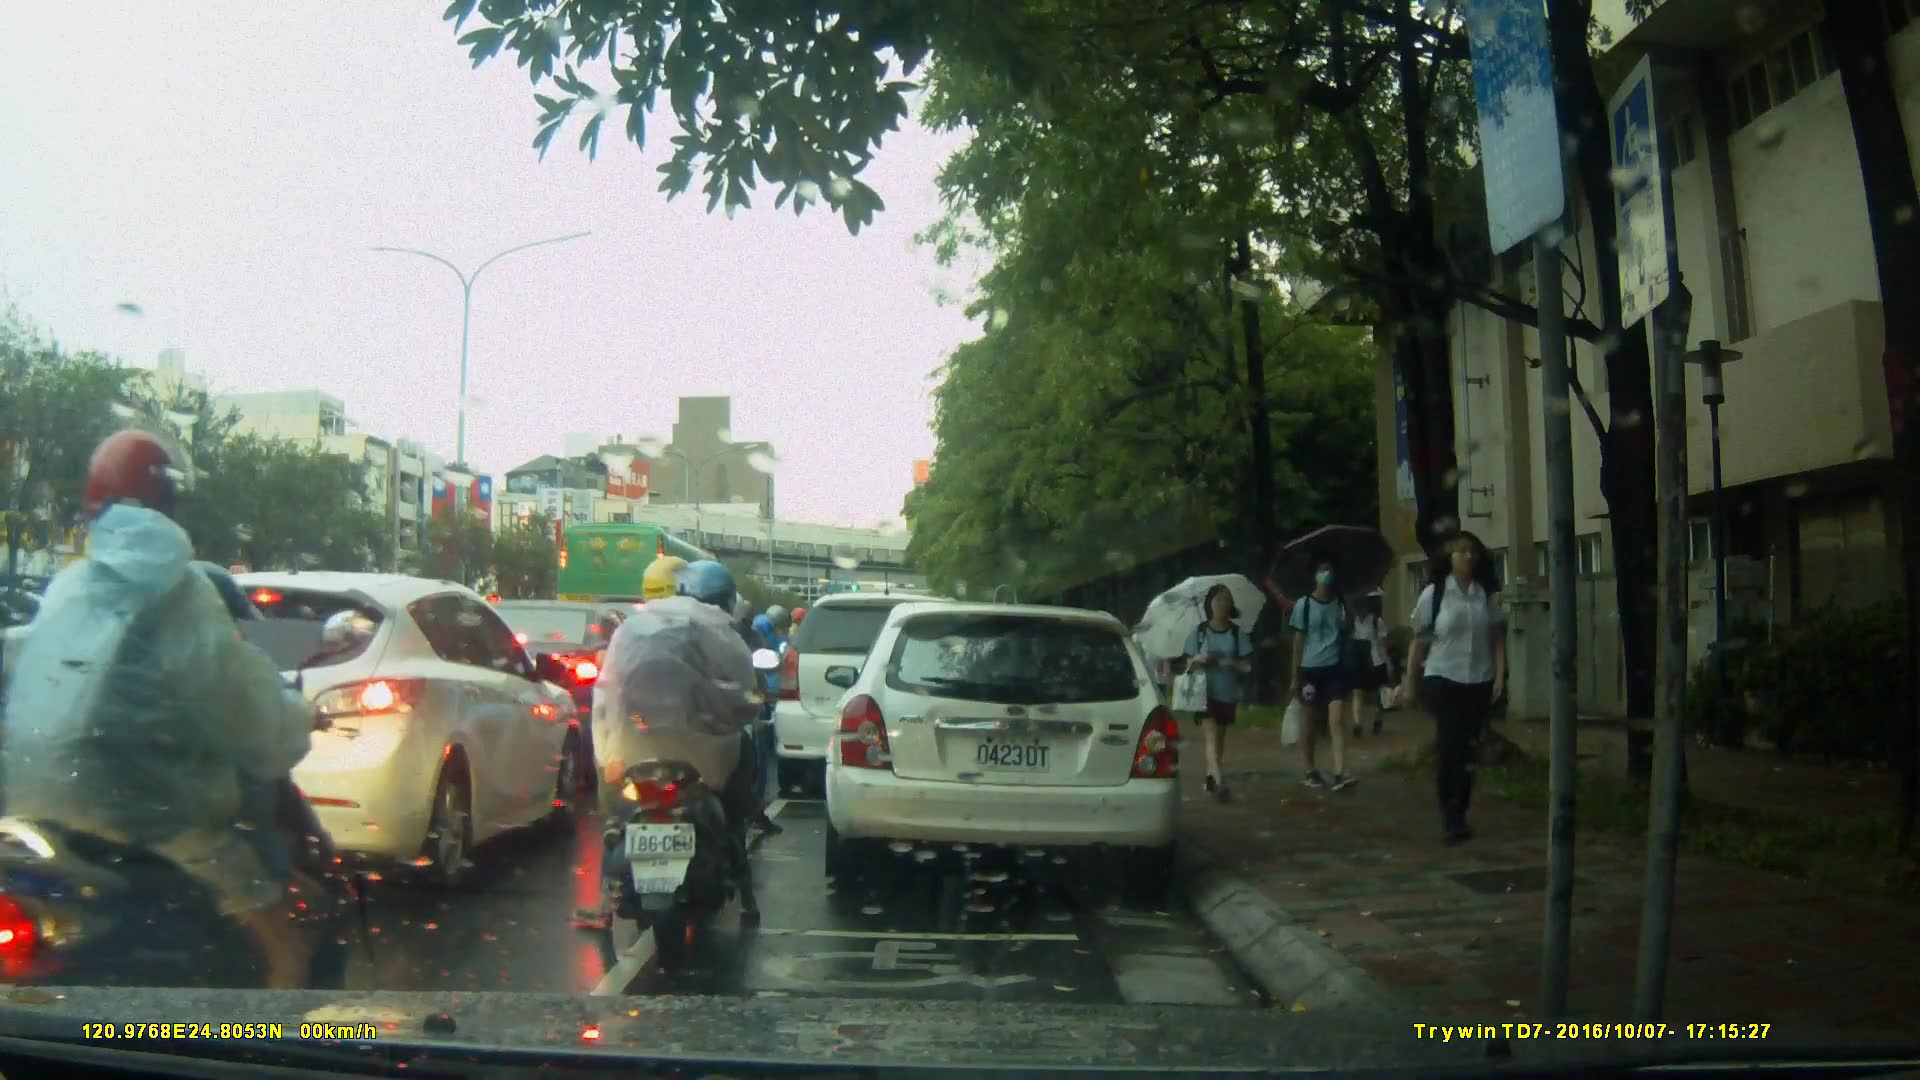pedestrian: (1401, 527, 1522, 852), (1278, 550, 1363, 800), (1179, 578, 1255, 805), (1133, 604, 1174, 742)
rider: (1, 426, 385, 1059), (574, 555, 781, 940), (650, 582, 760, 829)
vehicle: (93, 569, 588, 883), (822, 604, 1186, 882), (774, 595, 995, 802), (554, 519, 739, 666)
